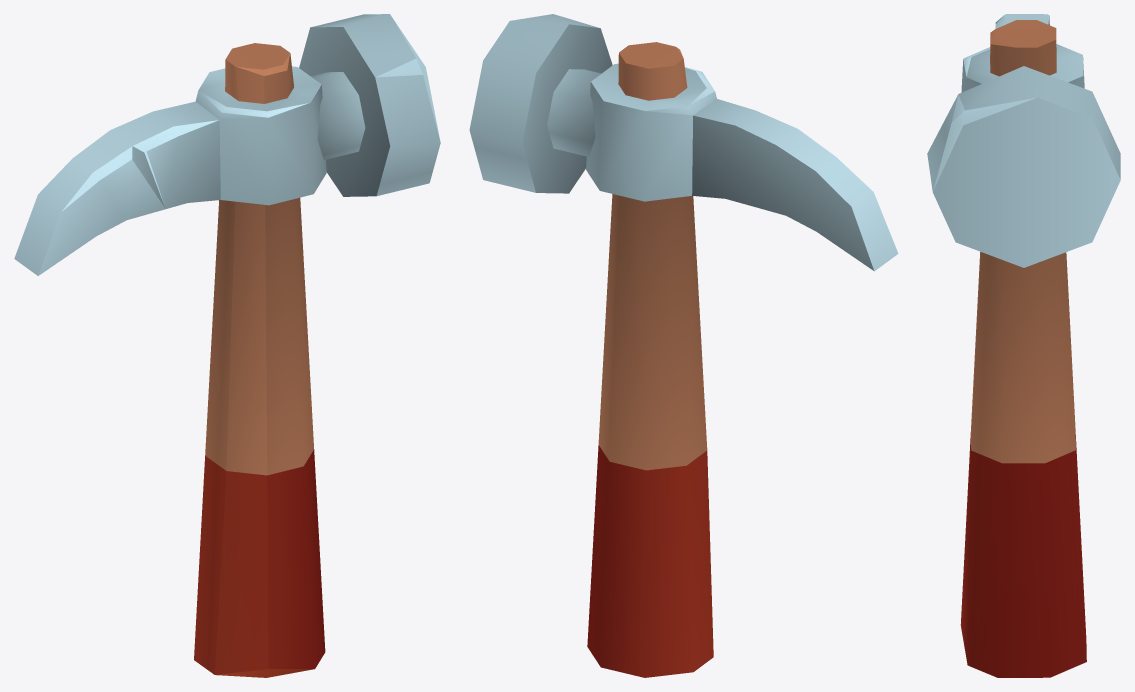
Rendered from tool_003.glb.
3 views of the same model, side by side, from view 1: azimuth 30°, elevation 25°; view 2: azimuth 150°, elevation 25°; view 3: azimuth 270°, elevation 25° (orthographic). The views are drawn at different scales.
Parts seen in each view (by area): view 1: tool.003; view 2: tool.003; view 3: tool.003.
Boxes of the visible parts, x1=… form: tool.003: x1=14, y1=14, x2=440, y2=677; tool.003: x1=469, y1=14, x2=898, y2=677; tool.003: x1=927, y1=14, x2=1120, y2=677.
Size of the model in its own units: 0.2674 by 0.419 by 0.1171.
Materials: 1 (1 with a texture image).
